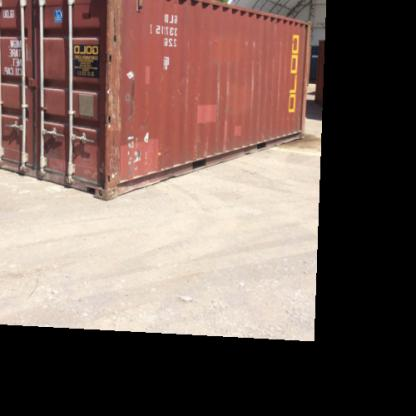Damage: (103, 125, 168, 179), (100, 3, 121, 121), (243, 55, 264, 115), (120, 66, 142, 114), (211, 60, 229, 116), (273, 46, 286, 110), (182, 70, 192, 123), (188, 139, 218, 156), (162, 48, 178, 76), (246, 33, 264, 47)
